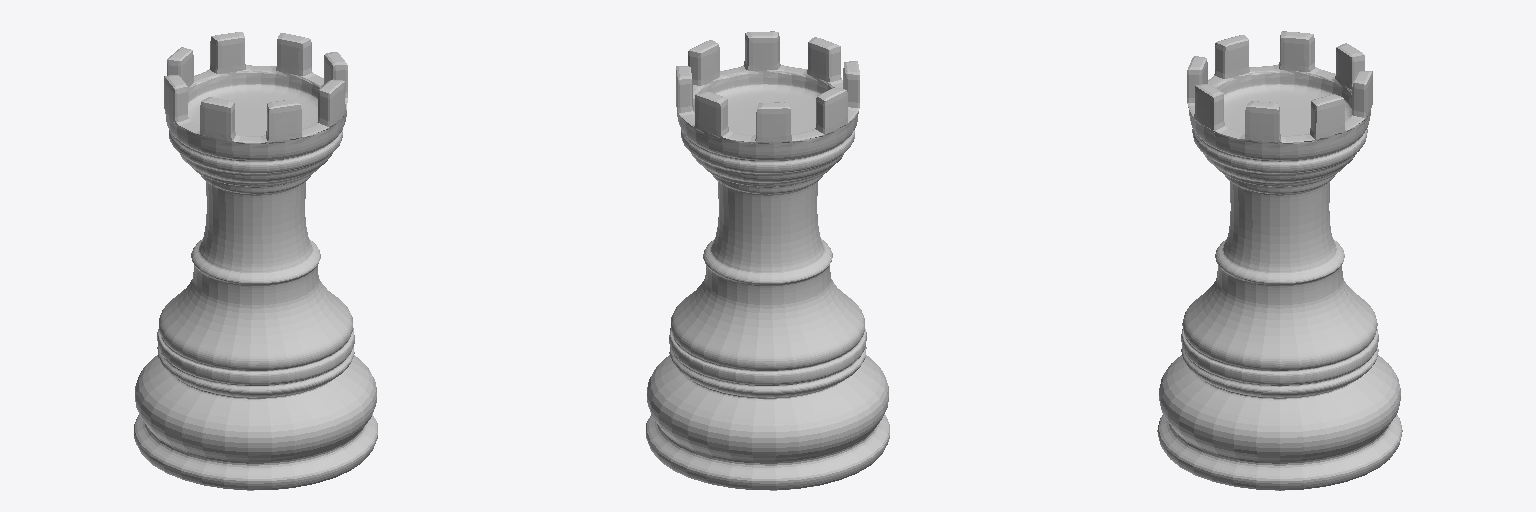
File: Rook.obj
3 renders of one model, left to right at view 1: azimuth 30°, elevation 25°; view 2: azimuth 150°, elevation 25°; view 3: azimuth 270°, elevation 25°, orthographic.
Parts seen in each view (by area): view 1: Cube.001_Cube.002; view 2: Cube.001_Cube.002; view 3: Cube.001_Cube.002.
Boxes of the visible parts, x1=… form: Cube.001_Cube.002: x1=134, y1=32, x2=377, y2=490; Cube.001_Cube.002: x1=646, y1=31, x2=889, y2=490; Cube.001_Cube.002: x1=1157, y1=31, x2=1402, y2=490.
Size of the model in its own units: 3.84 by 6.45 by 3.84.